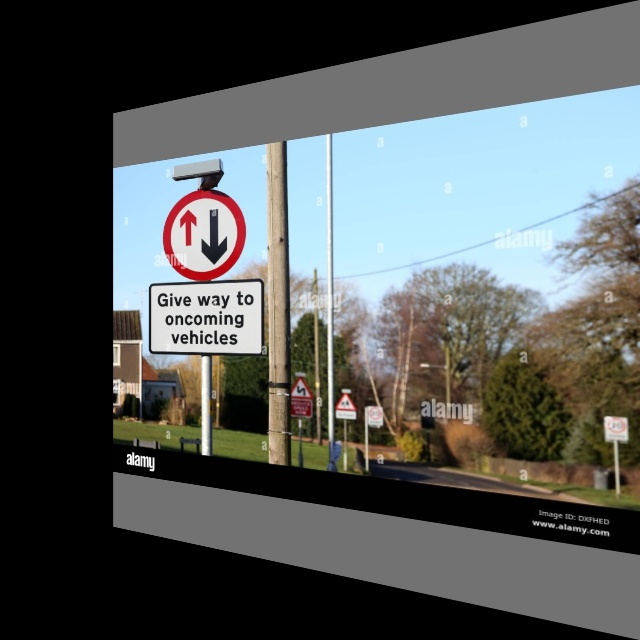Priority_for_Oncoming_Traffic: (162, 185, 245, 281)
